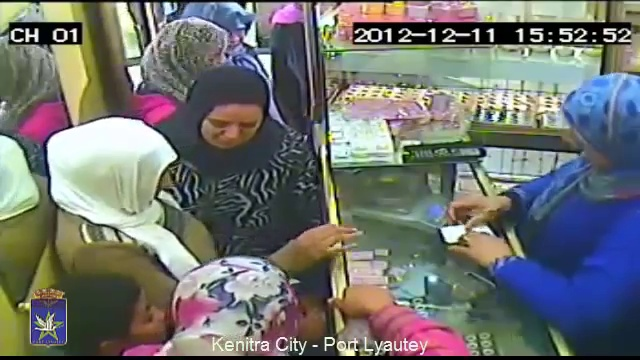face: (110, 292, 167, 343), (205, 113, 257, 148)
